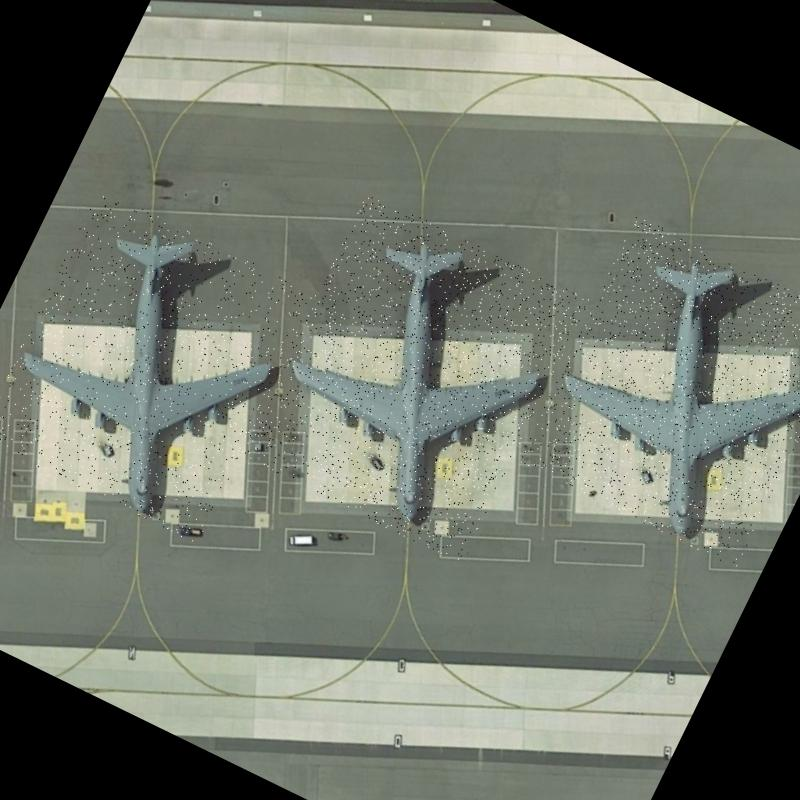A4: (238, 191, 589, 564), (0, 187, 318, 544), (516, 215, 800, 568)
